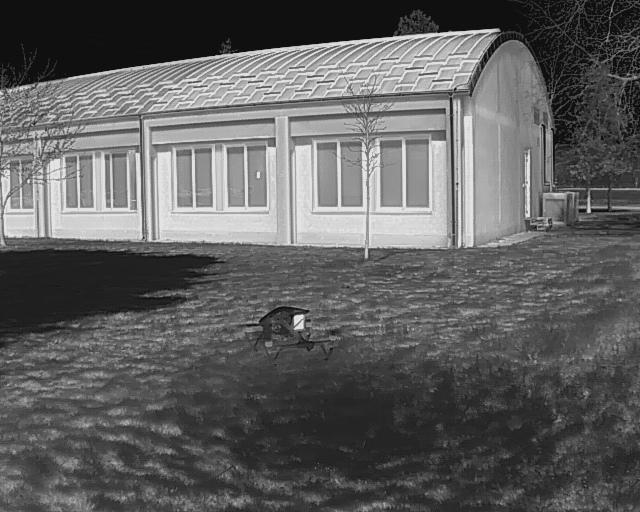drone: (226, 286, 344, 372)
